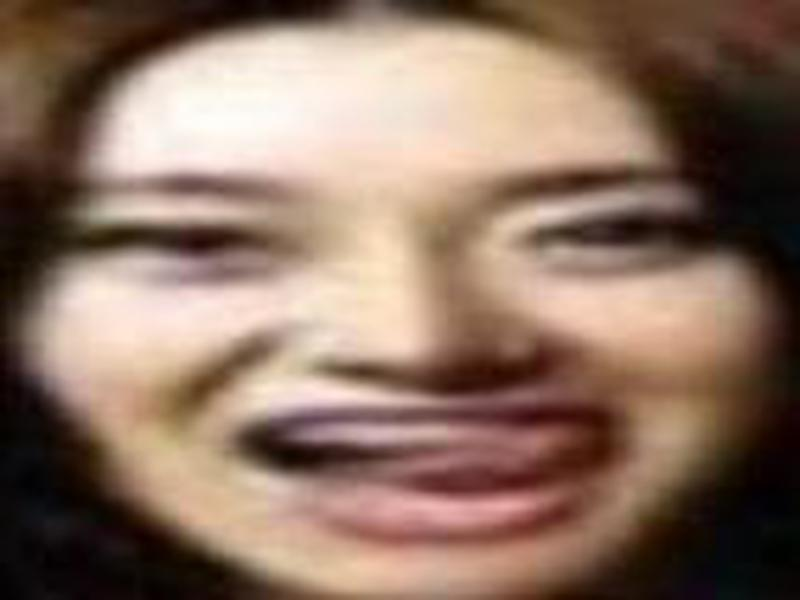without_mask: (29, 33, 778, 600)
